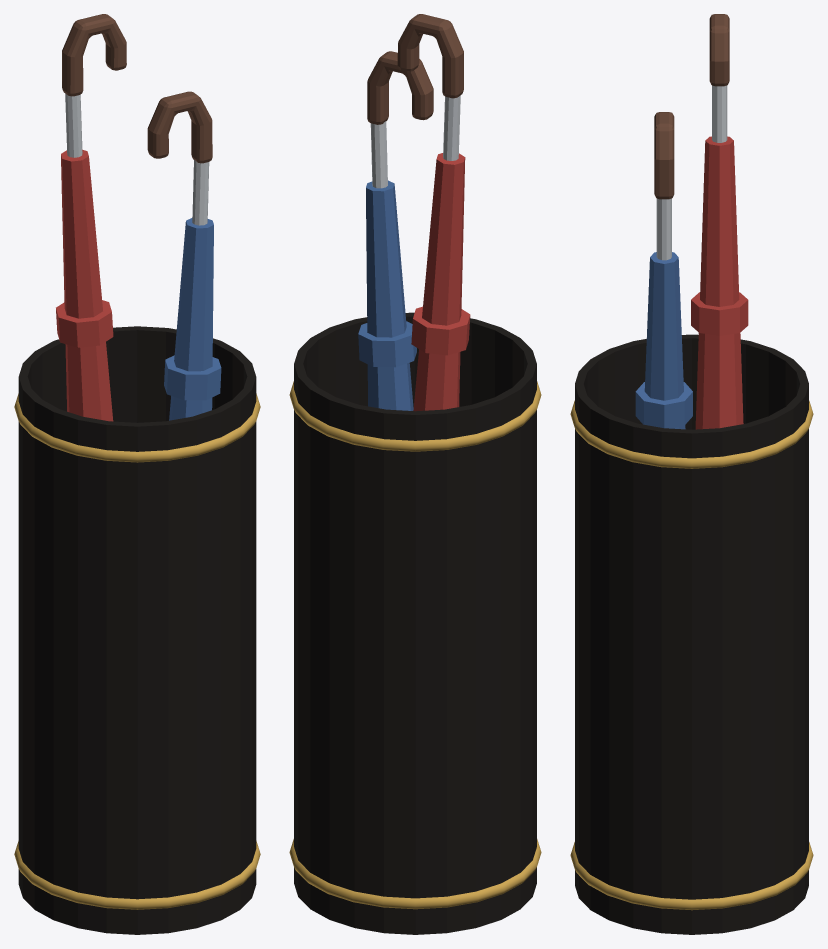
File: hh_cat_umbrella_stand.glb
3 renders of one model, left to right at view 1: azimuth 30°, elevation 25°; view 2: azimuth 150°, elevation 25°; view 3: azimuth 270°, elevation 25°, orthographic. The views are drawn at different scales.
Parts seen in each view (by area): view 1: stand, canopy, canopy.001, band.001, band, crook.001, crook, canopy_tie.001, canopy_tie, umbrella_shaft.001, umbrella_shaft; view 2: stand, canopy, canopy.001, band, band.001, crook, crook.001, canopy_tie, canopy_tie.001, umbrella_shaft.001, umbrella_shaft; view 3: stand, canopy, canopy.001, band.001, band, canopy_tie, canopy_tie.001, crook.001, crook, umbrella_shaft.001, umbrella_shaft.
Part boxes in pixels (x1,y1,x2,y2): stand: (18, 326, 256, 934); canopy: (61, 149, 113, 421); canopy.001: (169, 218, 213, 420); band.001: (14, 393, 260, 462); band: (14, 841, 260, 909); crook.001: (147, 91, 212, 163); crook: (62, 14, 126, 96); canopy_tie.001: (164, 355, 221, 400); canopy_tie: (56, 300, 113, 347); umbrella_shaft.001: (192, 160, 209, 225); umbrella_shaft: (65, 94, 82, 157); stand: (294, 312, 536, 934); canopy: (413, 153, 465, 411); canopy.001: (366, 180, 413, 410); band: (289, 839, 541, 909); band.001: (289, 381, 541, 451); crook: (397, 14, 463, 98); crook.001: (367, 51, 433, 124); canopy_tie: (411, 306, 470, 355); canopy_tie.001: (358, 321, 416, 367); umbrella_shaft.001: (370, 121, 387, 188); umbrella_shaft: (443, 95, 460, 160); stand: (575, 334, 808, 934); canopy: (695, 136, 743, 429); canopy.001: (644, 252, 685, 429); band.001: (570, 400, 813, 468); band: (570, 842, 813, 910); canopy_tie: (691, 292, 748, 335); canopy_tie.001: (635, 382, 692, 428); crook.001: (654, 112, 674, 199); crook: (709, 14, 729, 86); umbrella_shaft.001: (656, 198, 671, 260); umbrella_shaft: (712, 85, 727, 142).
Size of the model in its own units: 0.22 by 0.85 by 0.22.
